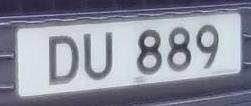8: (132, 22, 166, 82), (165, 19, 194, 74)
9: (193, 20, 220, 72)
D: (41, 30, 82, 88)
U: (80, 28, 119, 84)
